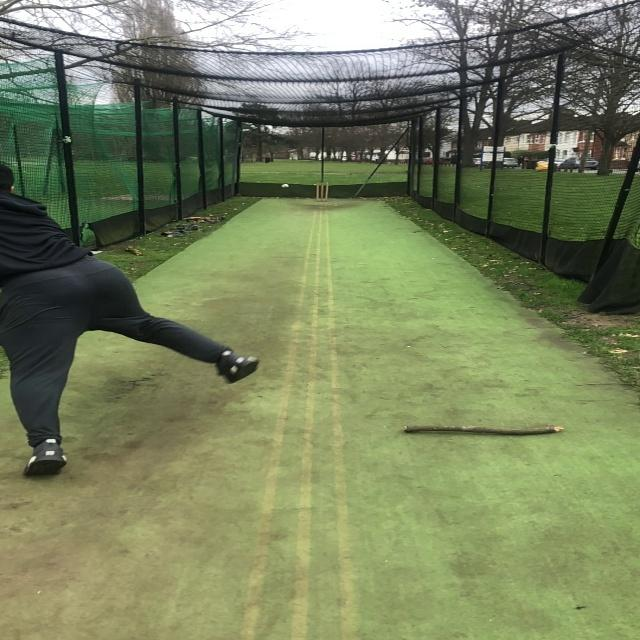ball: (281, 183, 289, 189)
